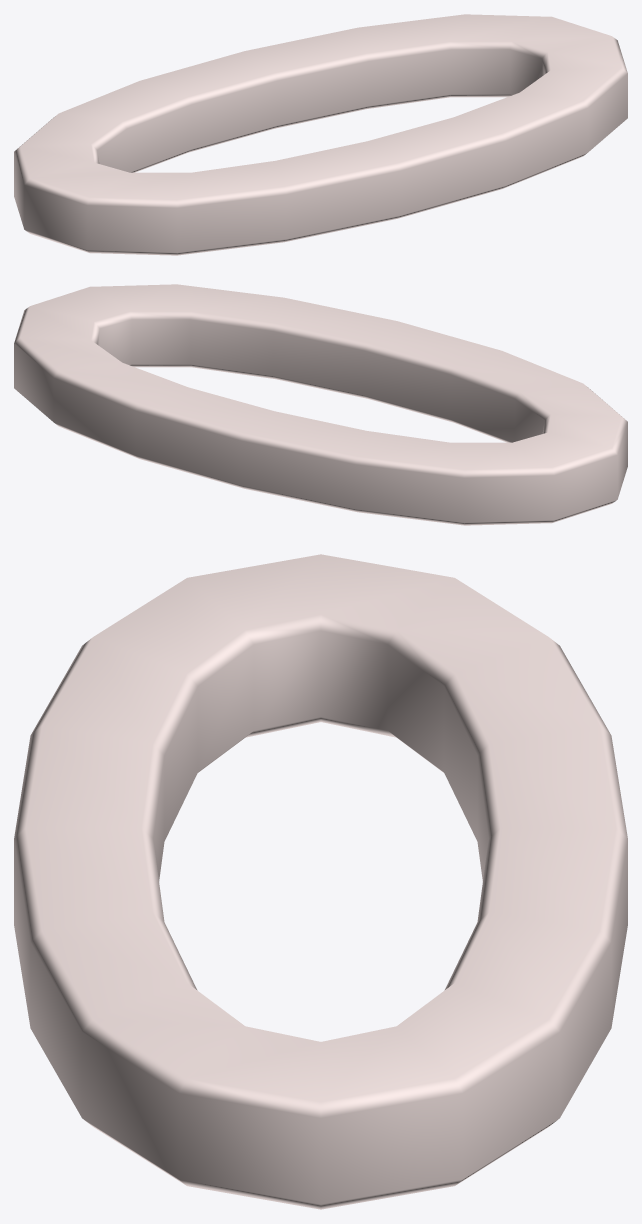
Rendered from Squid_2_Ring_1.fbx.
3 renders of one model, top to bottom at view 1: azimuth 30°, elevation 25°; view 2: azimuth 150°, elevation 25°; view 3: azimuth 270°, elevation 25°, orthographic. The views are drawn at different scales.
Parts seen in each view (by area): view 1: Squid_2_Ring_1; view 2: Squid_2_Ring_1; view 3: Squid_2_Ring_1.
Boxes of the visible parts, x1,y1,x2,y2 form: Squid_2_Ring_1: [14, 14, 627, 255]; Squid_2_Ring_1: [14, 284, 627, 525]; Squid_2_Ring_1: [14, 554, 627, 1209].
Bounding box in the file's own units: 11.51 × 1.03 × 5.35.
